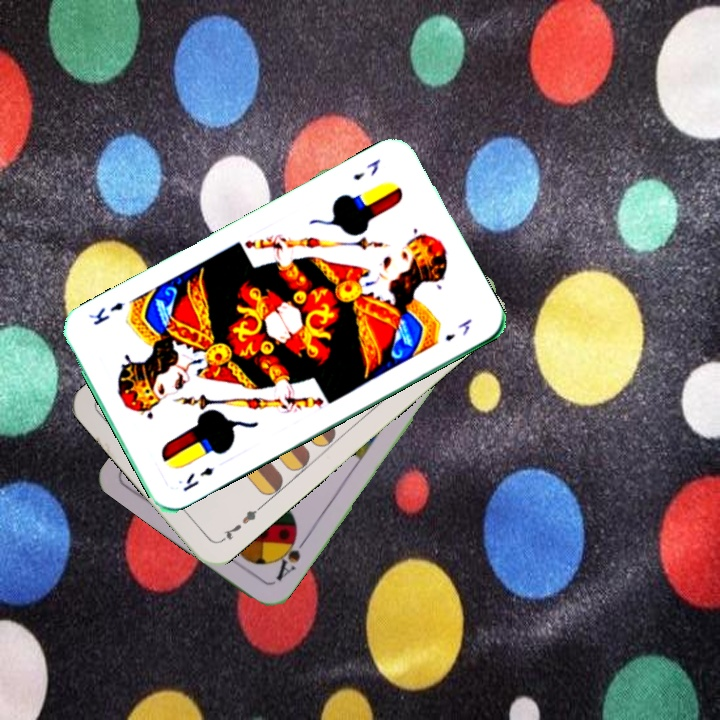E7: (215, 502, 264, 545)
EK: (179, 462, 216, 495), (348, 155, 383, 183)
SA: (271, 528, 310, 584)
